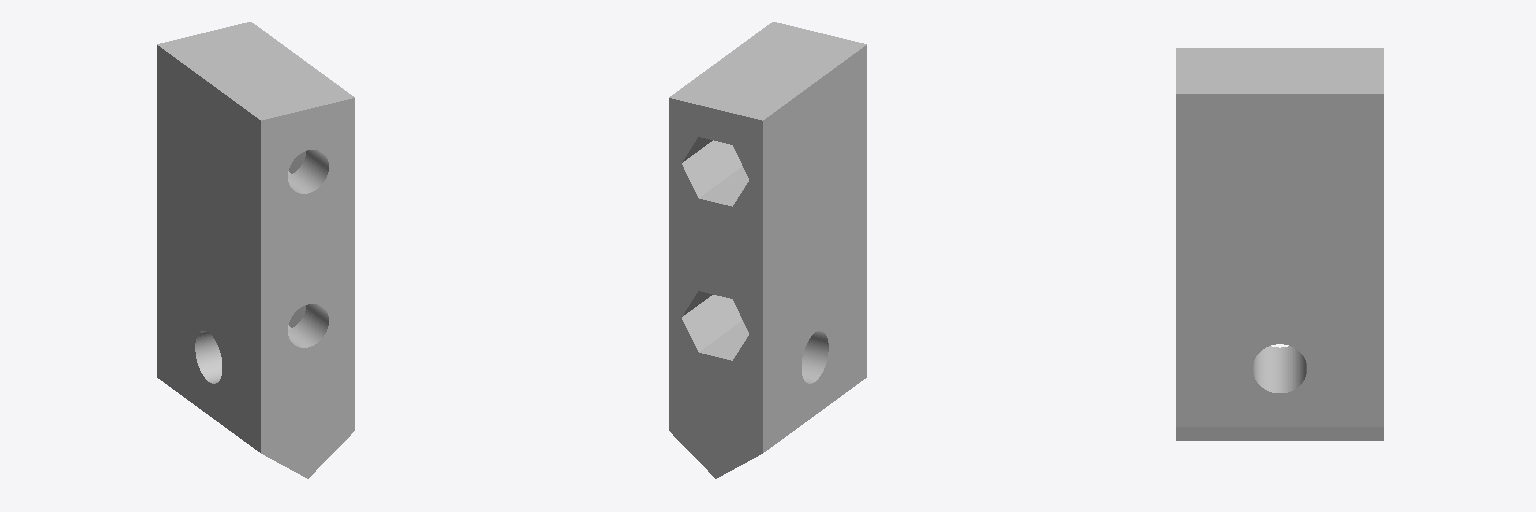
File: Damper_Left.obj
3 renders of one model, left to right at view 1: azimuth 30°, elevation 25°; view 2: azimuth 150°, elevation 25°; view 3: azimuth 270°, elevation 25°, orthographic.
Parts seen in each view (by area): view 1: Damper_Left; view 2: Damper_Left; view 3: Damper_Left.
Part boxes in pixels (x1,y1,x2,y2): Damper_Left: (157, 22, 354, 478); Damper_Left: (669, 22, 866, 478); Damper_Left: (1176, 48, 1383, 440).
Size of the model in its own units: 8 by 30 by 15.33.